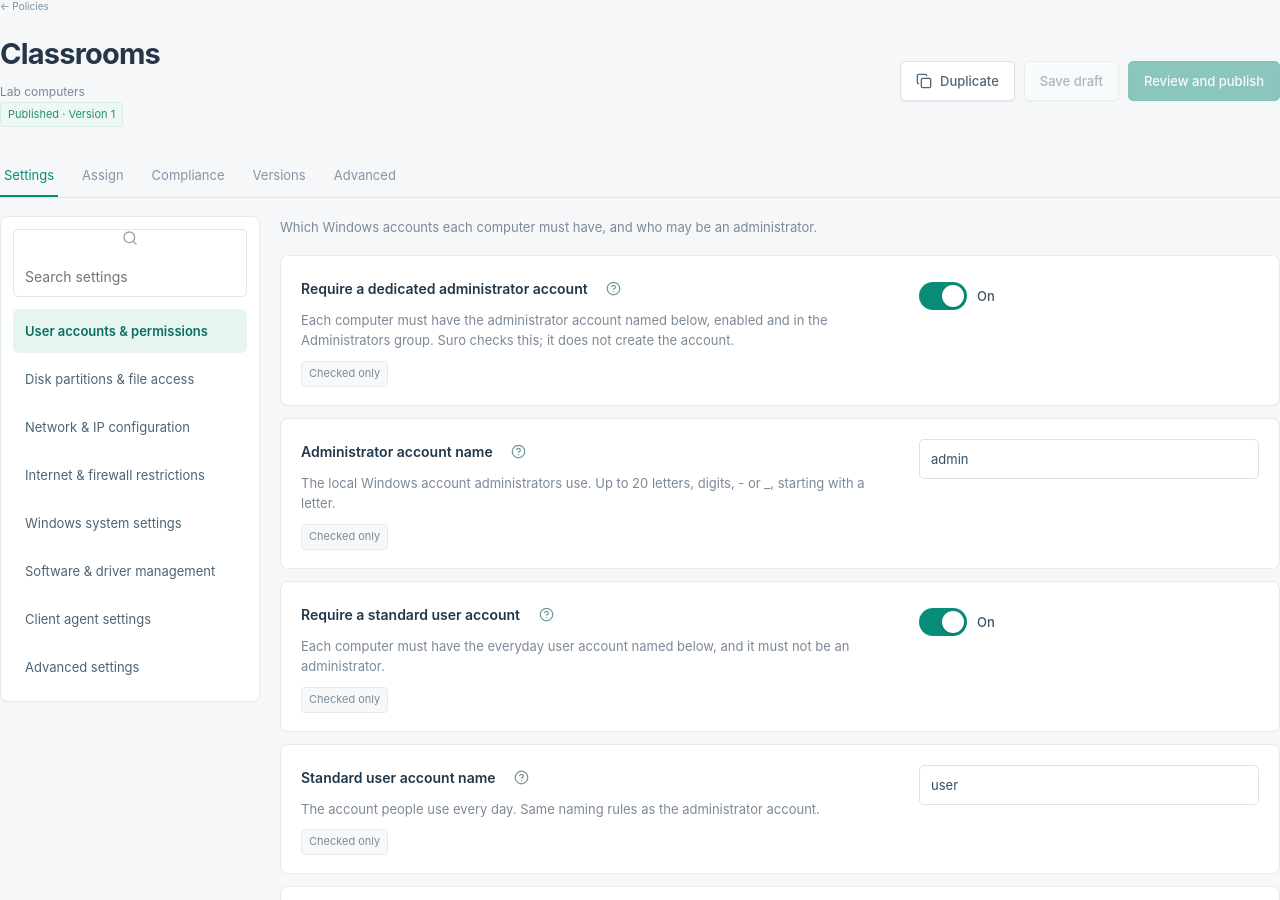
it: turns a toggle into the real policy field and saves it as a draft
Click the button "Internet & firewall restrictions".
click(130, 476)  # box [13,454,247,498]
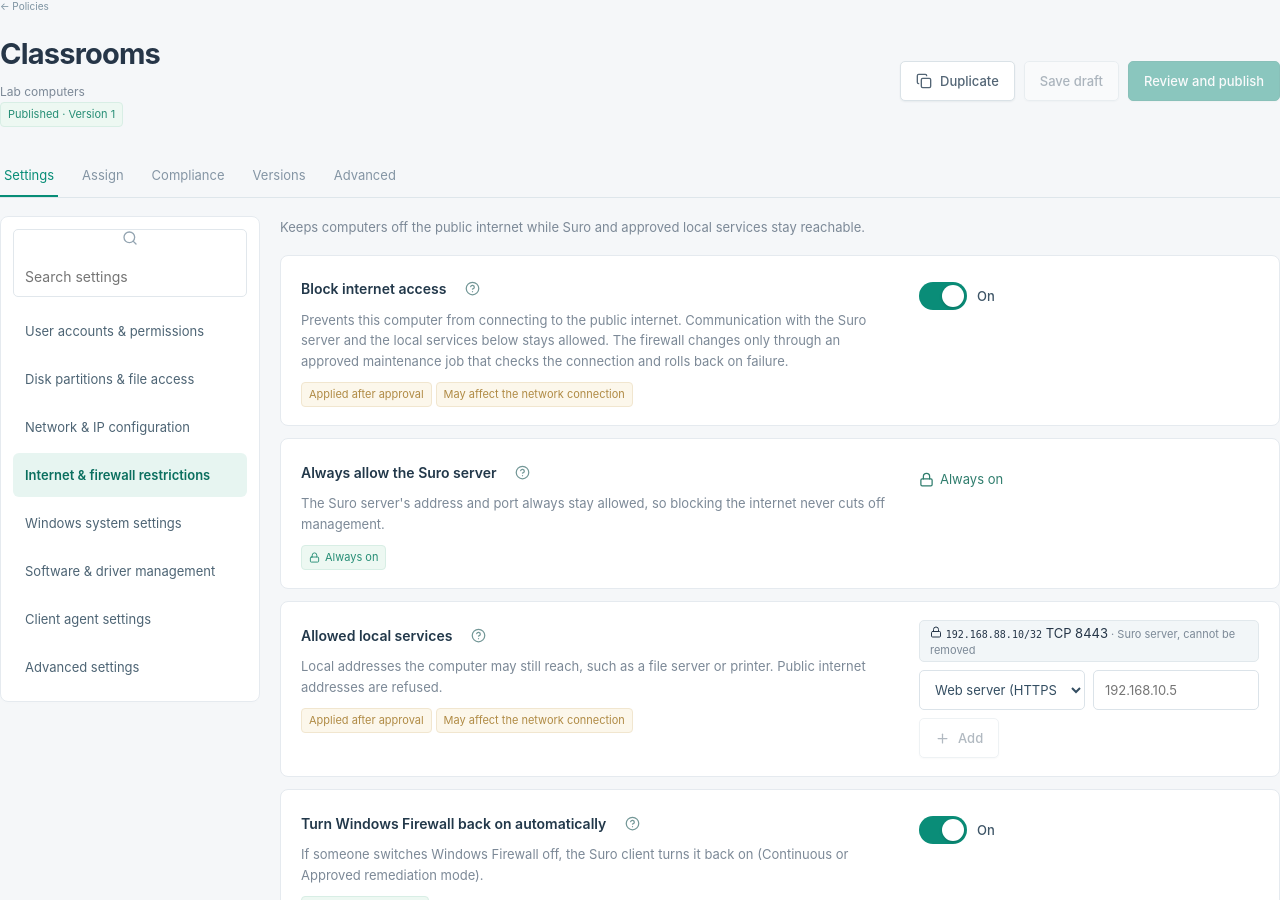
Click the switch named "Block internet access".
click(957, 296)  # box [919,282,995,310]
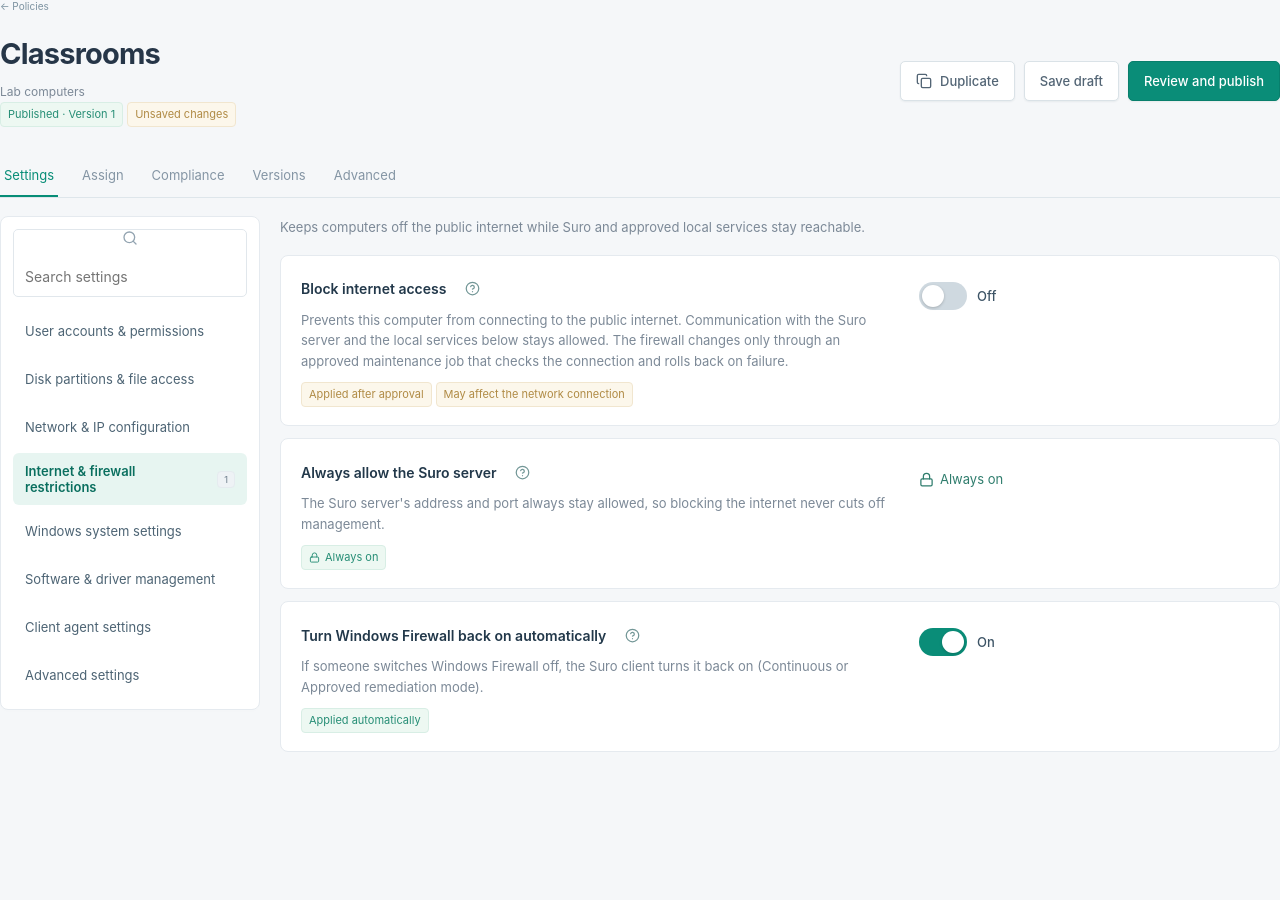
Check: the text "Unsaved changes" is shown, box [127,102,236,128]
Check: the heading "Allowed local services" is gone
Click the button "Save draft".
click(1071, 81)  # box [1024,61,1119,101]
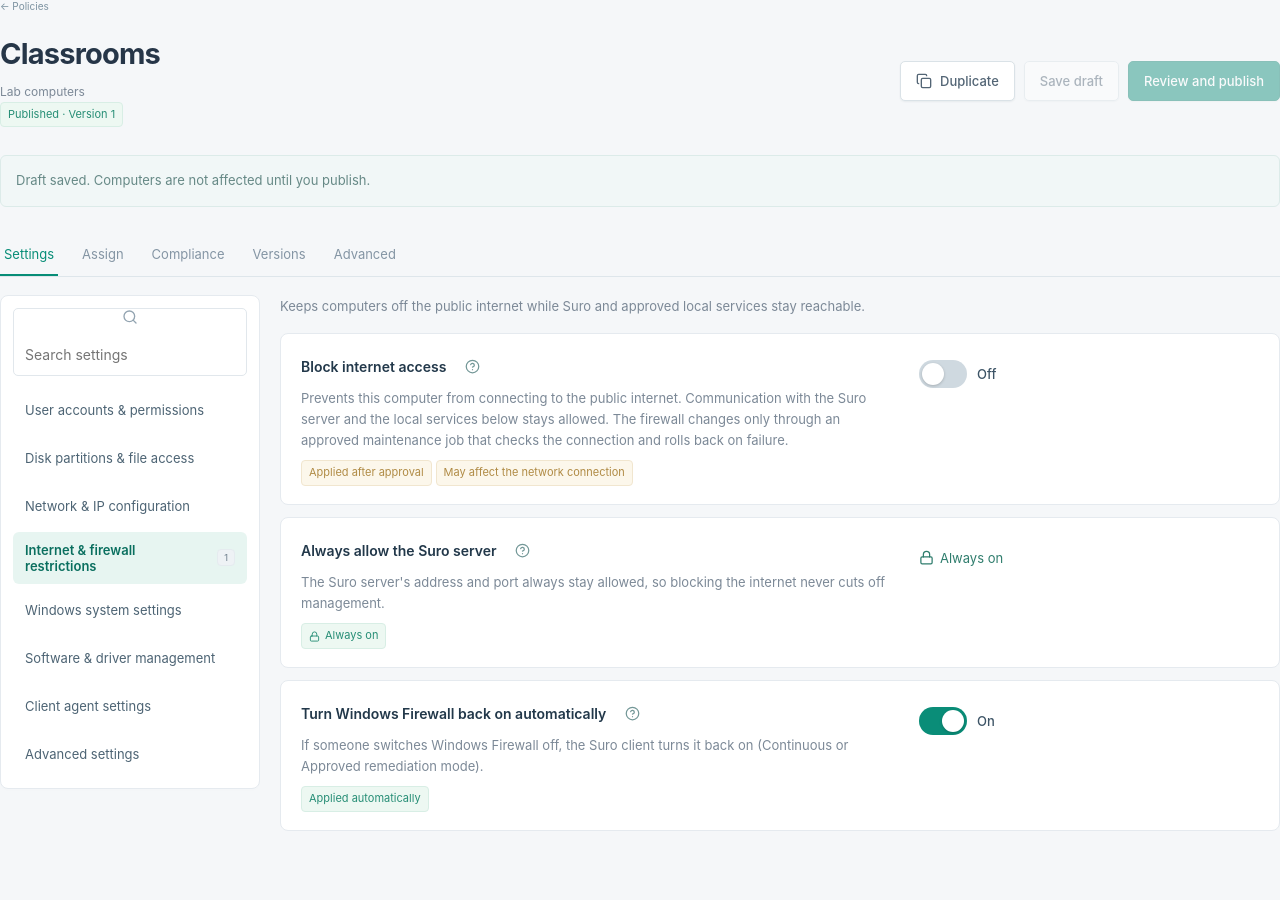
Check: the text "Draft saved. Computers are not affected until you publish." is shown, box [0,156,1279,207]
